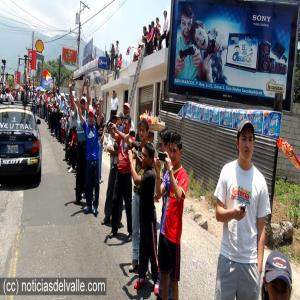Vehicle-registration-plate: (7, 146, 19, 156)
